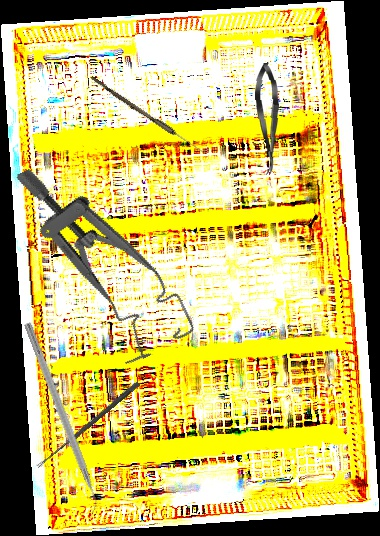Chopper: (13, 321, 106, 522)
Micro Scissor: (253, 61, 283, 176)
Speculum: (13, 133, 198, 376)
Surgical Spoon: (35, 380, 141, 470), (89, 75, 205, 155)
